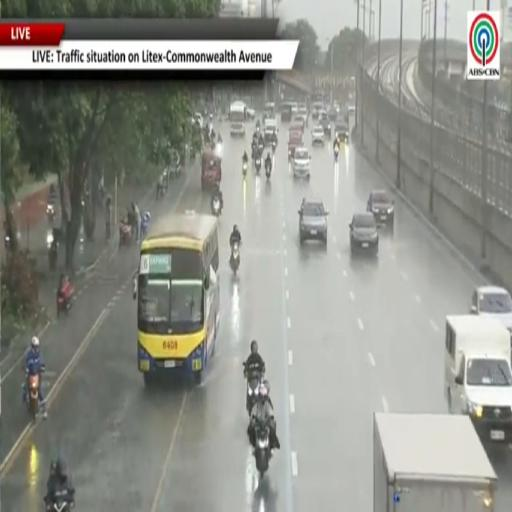bus: (134, 214, 220, 385), (230, 102, 247, 136)
car: (471, 285, 511, 337), (298, 199, 328, 245), (349, 212, 379, 255), (367, 190, 394, 227), (293, 147, 311, 179), (288, 131, 302, 158), (264, 119, 277, 145), (319, 110, 331, 138), (334, 121, 348, 142), (290, 116, 305, 132), (281, 102, 293, 122), (312, 125, 324, 145), (230, 122, 245, 136), (263, 103, 275, 120), (298, 104, 308, 124), (312, 102, 323, 119), (328, 106, 338, 121), (194, 112, 203, 127), (246, 108, 255, 120), (334, 102, 341, 114), (348, 105, 355, 115)
motorcycle: (243, 363, 263, 417), (254, 423, 271, 478), (27, 368, 43, 420), (44, 490, 74, 511), (57, 283, 74, 316), (48, 239, 58, 271), (230, 243, 240, 275), (119, 223, 131, 247), (47, 501, 73, 511), (47, 204, 55, 223), (212, 197, 220, 216), (255, 156, 261, 174), (334, 147, 339, 162), (243, 162, 248, 177), (266, 165, 271, 180), (258, 142, 264, 154), (272, 140, 276, 154)
truck: (374, 413, 497, 511)
